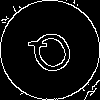Q: (25, 25, 83, 86)
